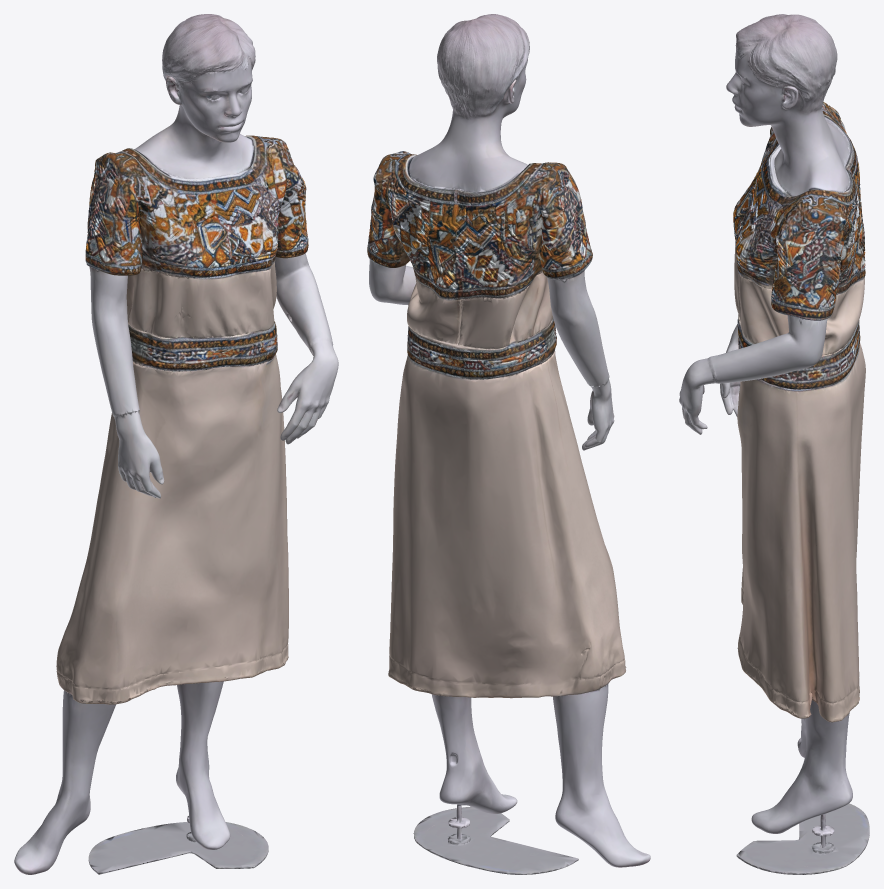
3 views of the same model, side by side, from view 1: azimuth 30°, elevation 25°; view 2: azimuth 150°, elevation 25°; view 3: azimuth 270°, elevation 25° (orthographic). The views are drawn at different scales.
Visible parts, largest first — view 1: tripo_node_c5401616-ae1d-423a-a78b-0fbaedf9cb6a; view 2: tripo_node_c5401616-ae1d-423a-a78b-0fbaedf9cb6a; view 3: tripo_node_c5401616-ae1d-423a-a78b-0fbaedf9cb6a.
Part boxes in pixels (left/top/right/bottom): tripo_node_c5401616-ae1d-423a-a78b-0fbaedf9cb6a: left=14, top=14, right=338, bottom=874; tripo_node_c5401616-ae1d-423a-a78b-0fbaedf9cb6a: left=367, top=14, right=650, bottom=874; tripo_node_c5401616-ae1d-423a-a78b-0fbaedf9cb6a: left=679, top=14, right=869, bottom=874.
Bounding box in the file's own units: 0.3538 × 0.9785 × 0.2039.
Materials: 1 (1 with a texture image).
